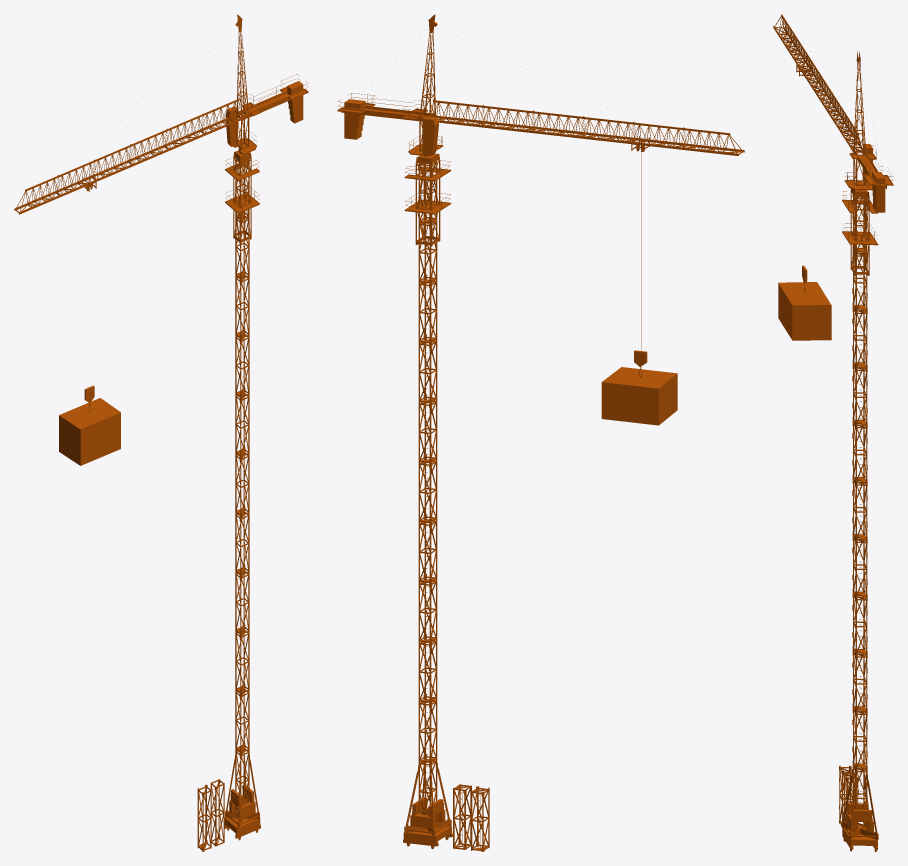
Rendered from tadiao.obj.
3 views of the same model, side by side, from view 1: azimuth 30°, elevation 25°; view 2: azimuth 150°, elevation 25°; view 3: azimuth 270°, elevation 25° (orthographic). The views are drawn at different scales.
Visible parts, largest first — view 1: polySurface1932; view 2: polySurface1932; view 3: polySurface1932.
Boxes of the visible parts, x1,y1,x2,y2 form: polySurface1932: (14, 14, 308, 851); polySurface1932: (337, 14, 744, 851); polySurface1932: (773, 14, 893, 851).
Size of the model in its own units: 523 by 1204 by 165.
